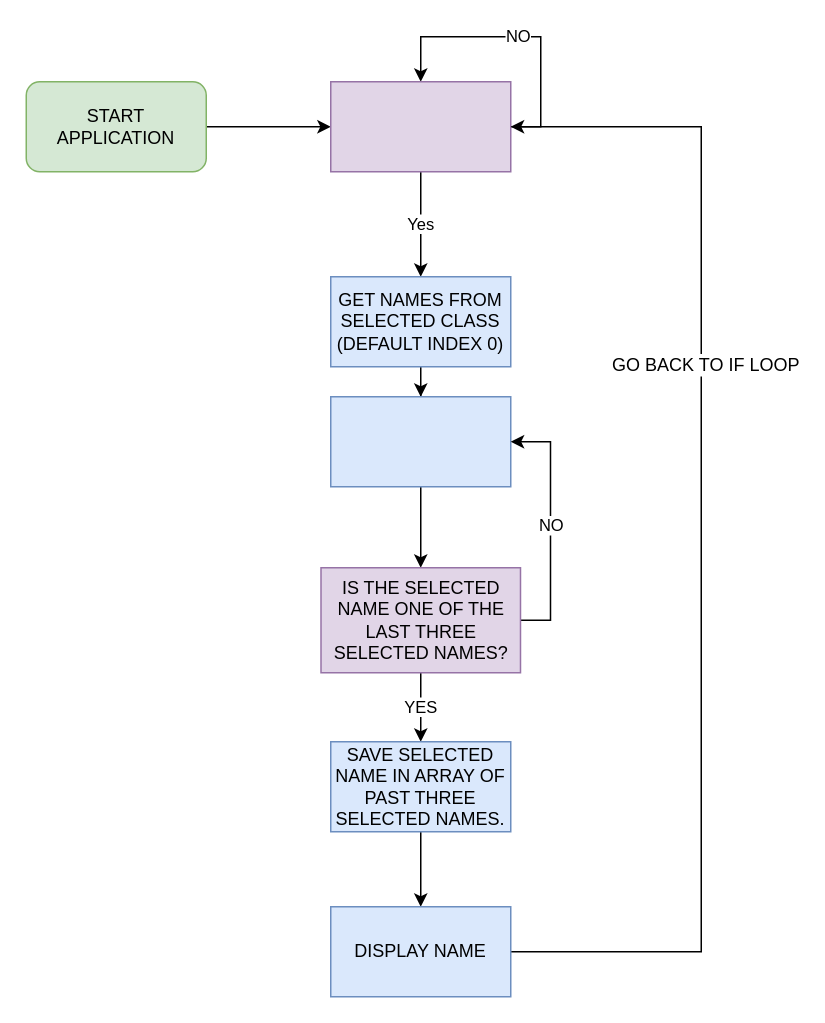
Some shapes in this 825 by 1023 pixel diagram are drawn without their labels. The shapes that lost their labels are listed below. From the top down, each one's box as (x1, y1, x2, y2) in pixels, then its label:
(329, 80, 511, 172): HAS SELECT BUTTON BEEN PRESSED?
(329, 395, 511, 487): RANDOMLY SELECT ARRAY OF NAMES
